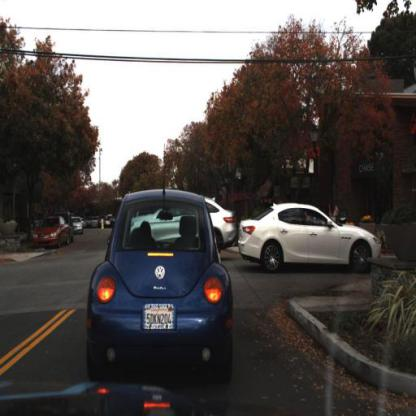car: (83, 177, 235, 384), (236, 200, 387, 274), (122, 190, 238, 254), (33, 217, 71, 251)
pedestrian: (328, 195, 338, 229), (338, 195, 348, 227)
